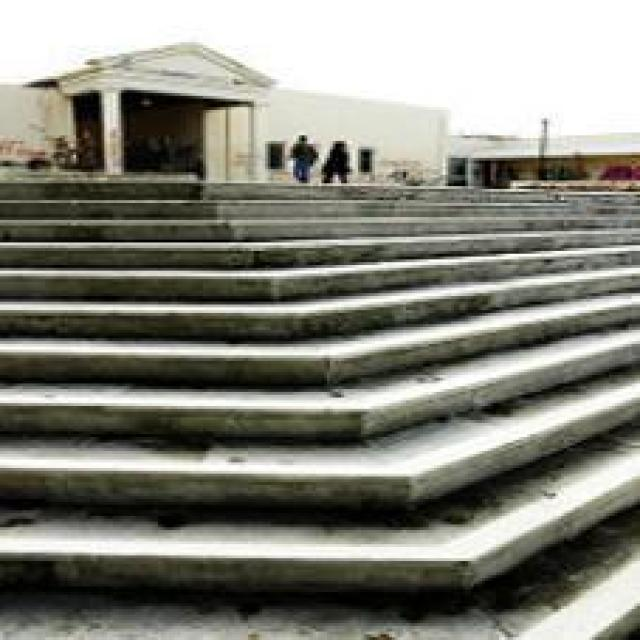upstair: (15, 170, 604, 579)
